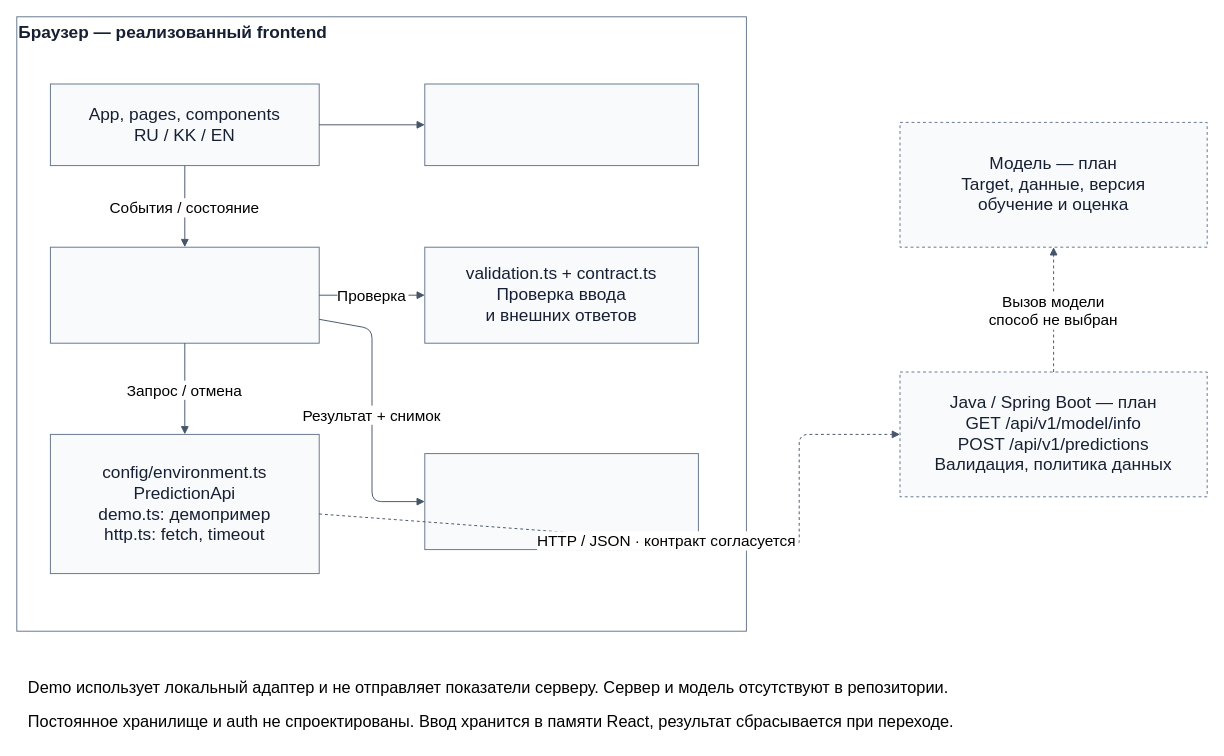
This 1224x756 diagram has some shape labels left out. Each missing label, with the centre of its shape:
pdf/report.ts Локальные шрифты и логотипы Скачивание PDF: the point at 561,501
useNavigation Hash-маршруты: the point at 561,124
usePrediction Ввод, состояние, отмена защита от позднего ответа: the point at 184,294
